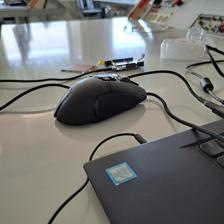mouse: (53, 73, 146, 128)
